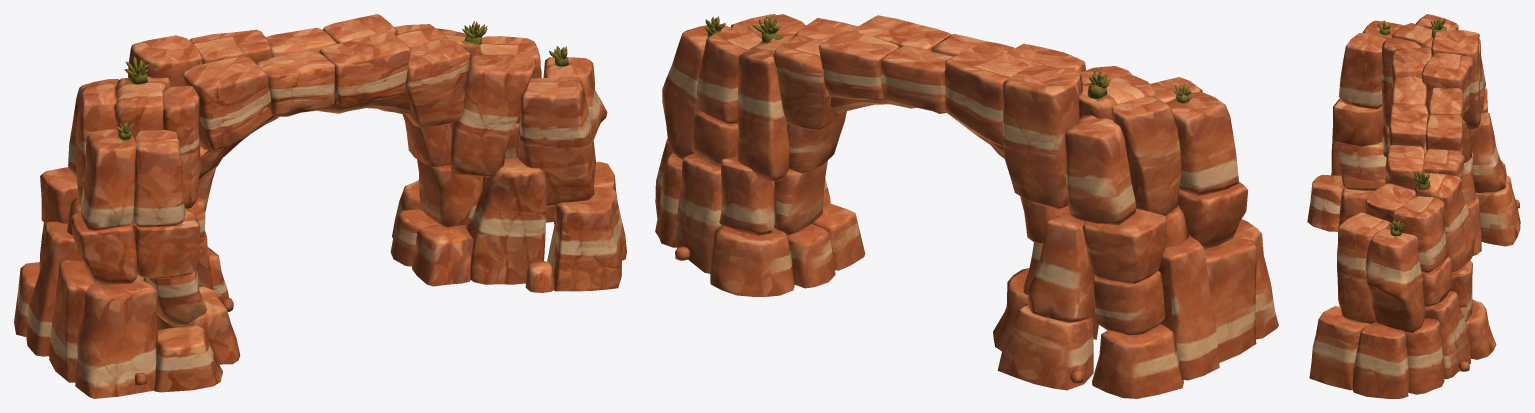
File: kit-rc-natural-arch.glb
3 renders of one model, left to right at view 1: azimuth 30°, elevation 25°; view 2: azimuth 150°, elevation 25°; view 3: azimuth 270°, elevation 25°, orthographic. The views are drawn at different scales.
Parts seen in each view (by area): view 1: kit-rc-natural-arch; view 2: kit-rc-natural-arch; view 3: kit-rc-natural-arch.
Boxes of the visible parts, <box> form: kit-rc-natural-arch: <box>14,14,626,398</box>; kit-rc-natural-arch: <box>655,14,1278,398</box>; kit-rc-natural-arch: <box>1307,14,1520,398</box>.
Bounding box in the file's own units: 34.98 × 16 × 14.76.
1 material, 1 textured.
